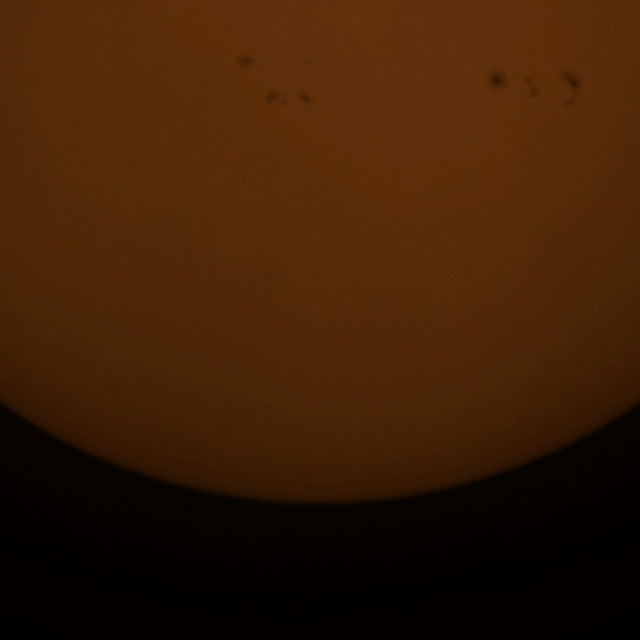sunspot: (262, 85, 312, 114), (486, 69, 511, 96), (295, 87, 314, 115)
